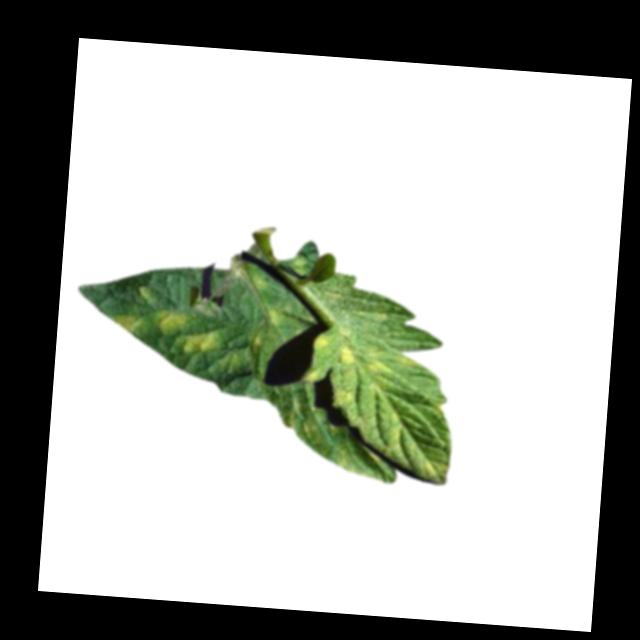Leaf_Mold: (328, 337, 419, 413), (150, 309, 219, 360), (104, 310, 135, 334), (307, 333, 330, 358)
